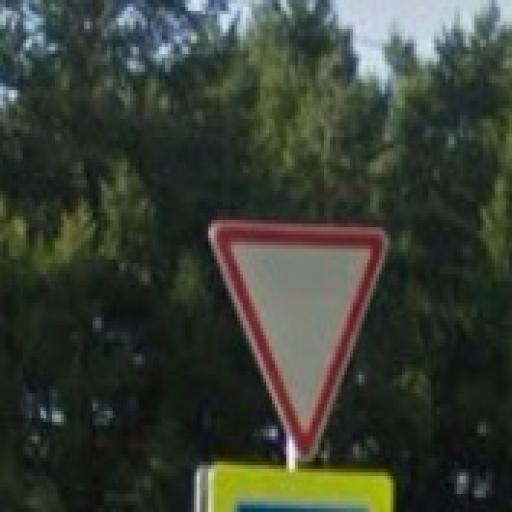traffic_sign: (209, 221, 389, 462)
